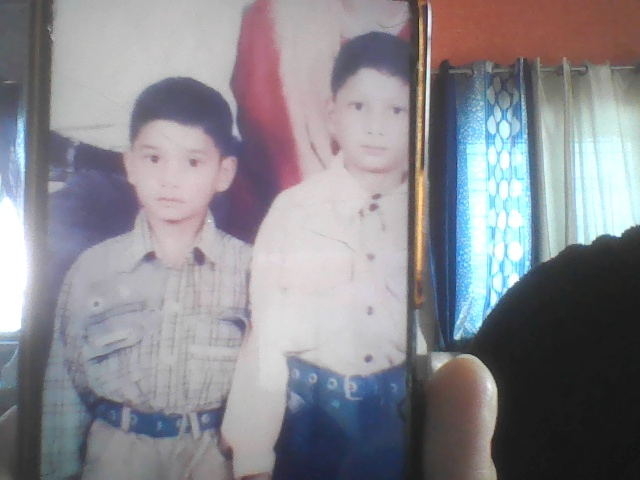fake: (297, 3, 437, 201), (126, 87, 232, 238)
